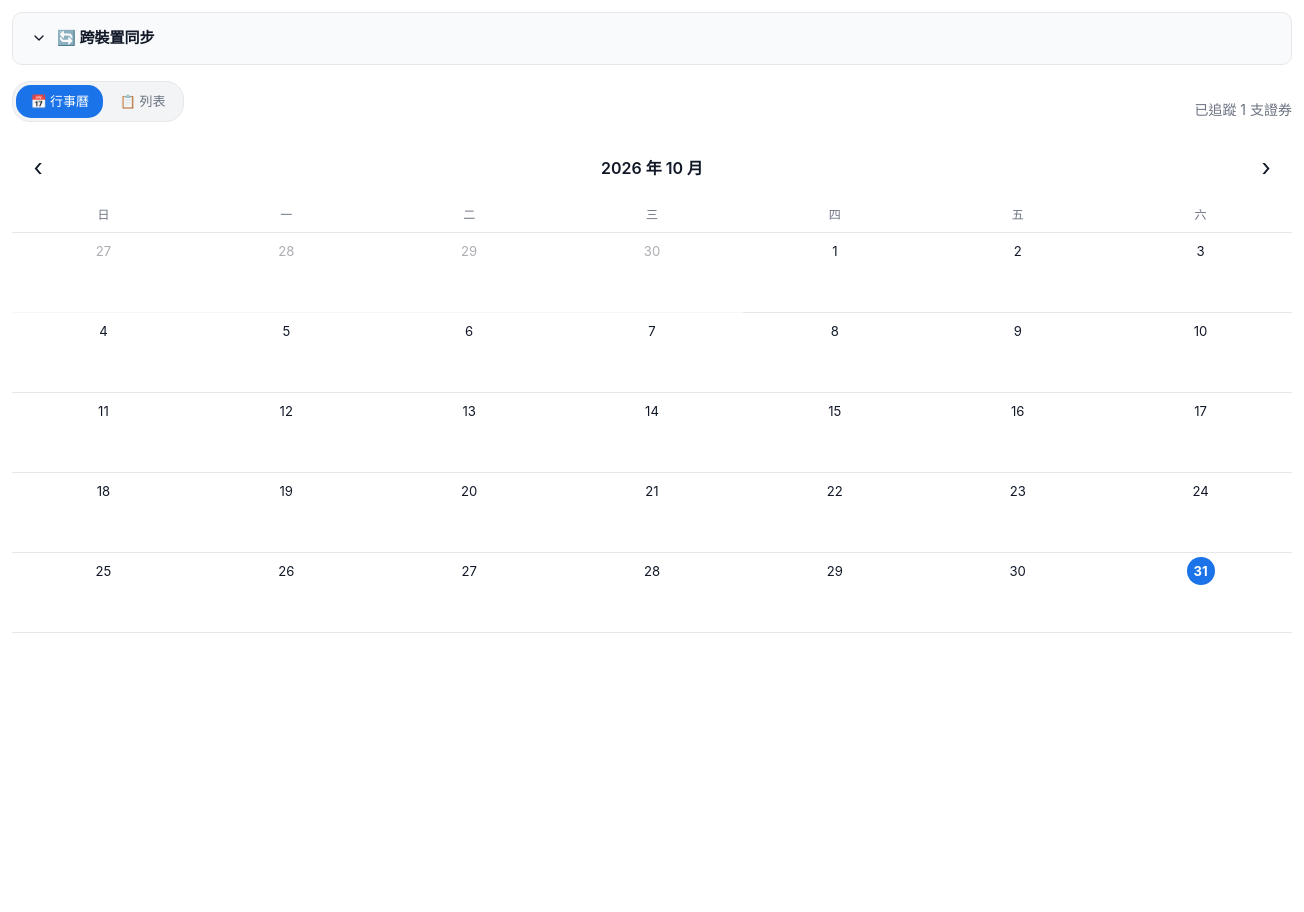
Test: components/WatchlistView（追蹤清單視圖）— 功能 001 無配息顯示 › 無配息股票在列表模式顯示「無近期配息」
 切換到列表模式
Click the tab "📋 列表": x=143, y=101 [106,84,180,118]
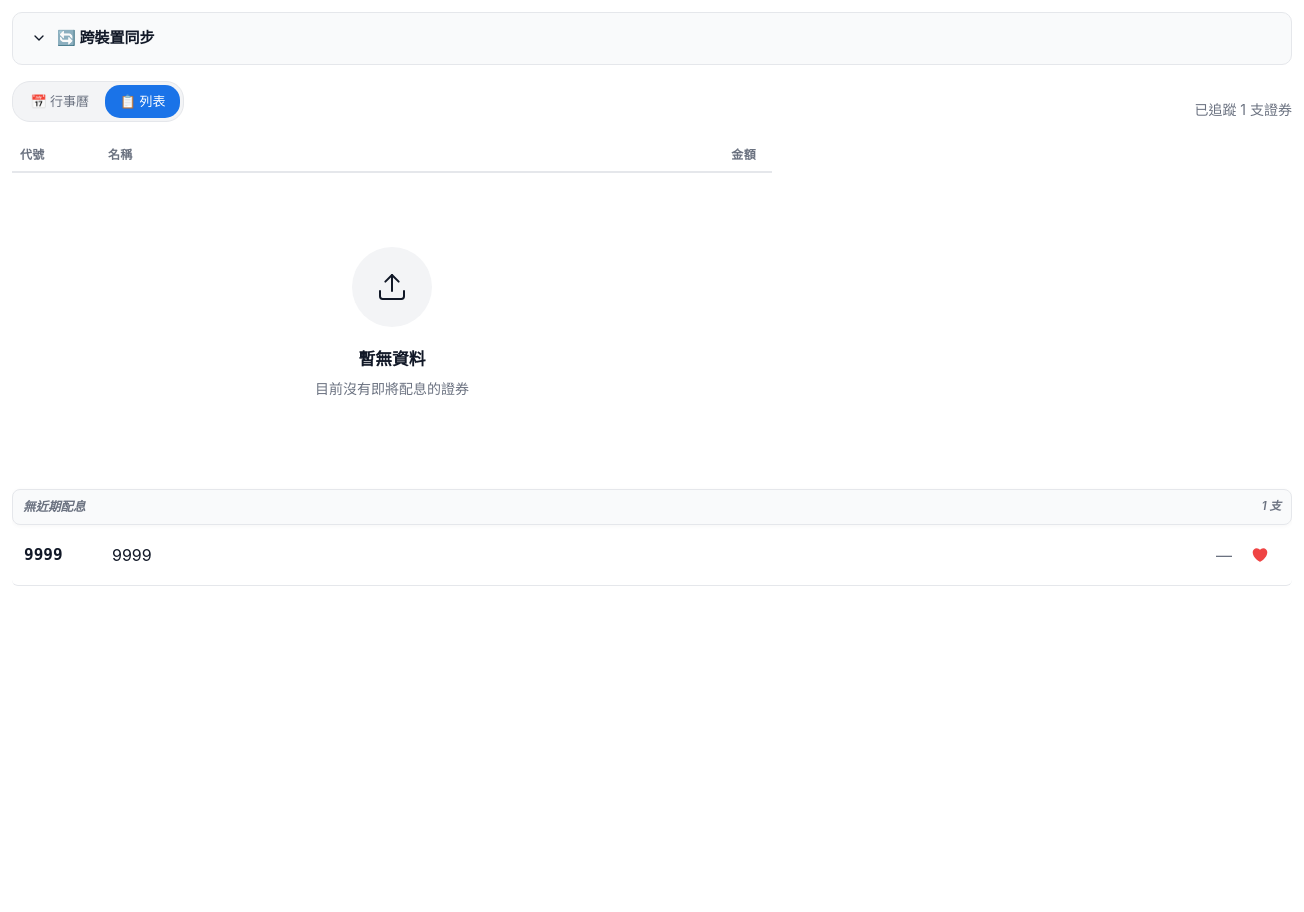
Check: the text "9999" is shown, box [24,546,62,564]
Check: the text "無近期配息" is shown, box [23,498,85,516]
